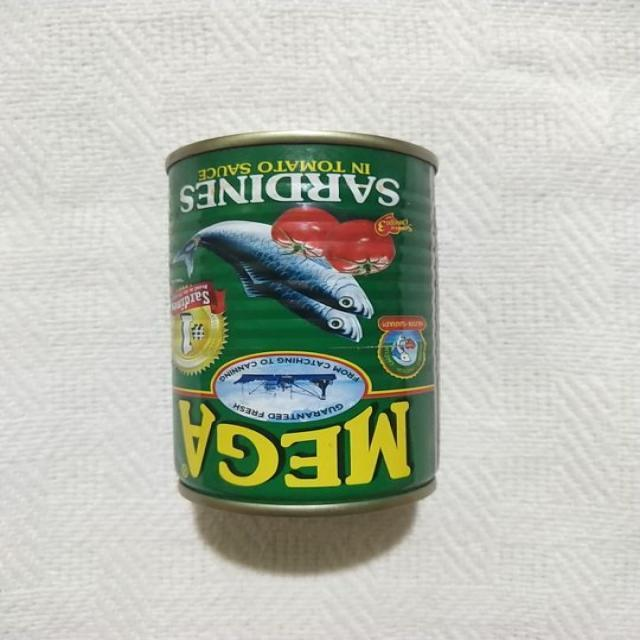metal-can: (165, 128, 438, 516)
